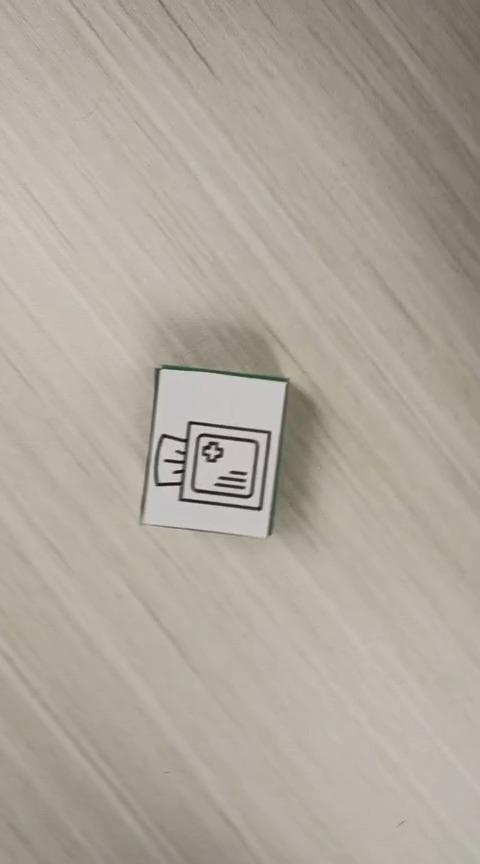Gauze: (138, 363, 289, 539)
